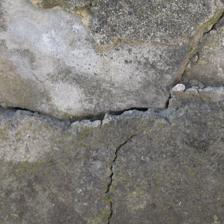Crack: (0, 61, 183, 180), (7, 0, 96, 76), (95, 37, 224, 74)
